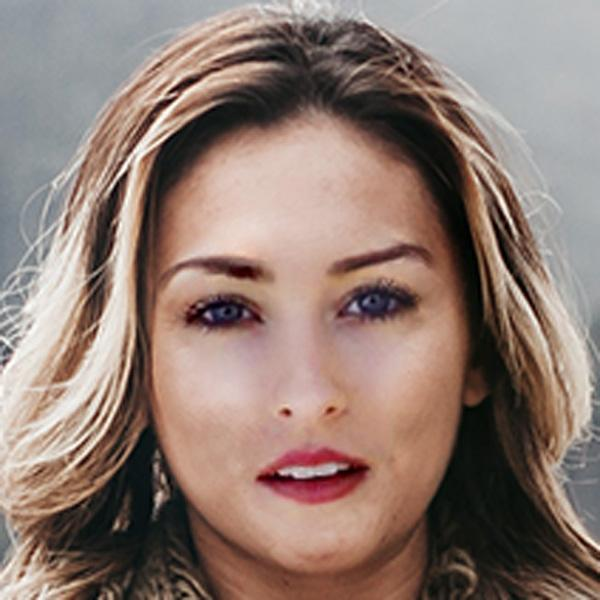Eyes: (324, 274, 427, 336), (174, 282, 274, 342)
